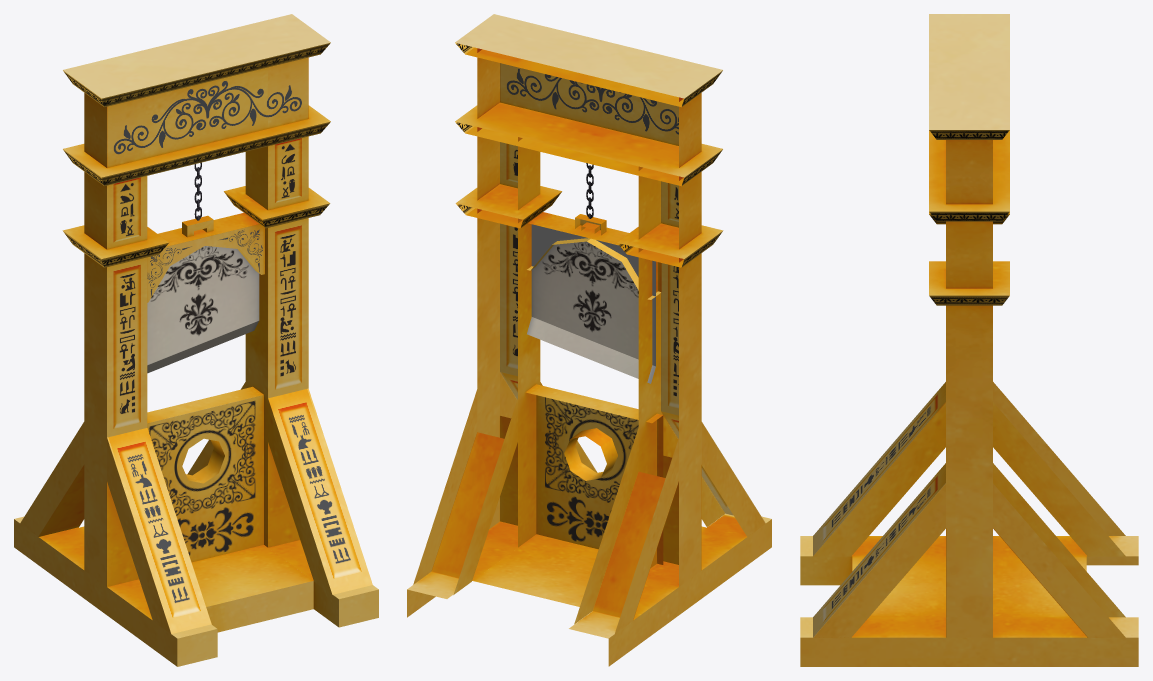
File: Guillotine.fbx
3 renders of one model, left to right at view 1: azimuth 30°, elevation 25°; view 2: azimuth 150°, elevation 25°; view 3: azimuth 270°, elevation 25°, orthographic. The views are drawn at different scales.
Parts seen in each view (by area): view 1: Guillotine; view 2: Guillotine; view 3: Guillotine.
Part boxes in pixels (<box>): Guillotine: <box>14,14,378,666</box>; Guillotine: <box>407,14,771,666</box>; Guillotine: <box>800,14,1138,666</box>.
Bounding box in the file's own units: 341 × 746 × 420.
